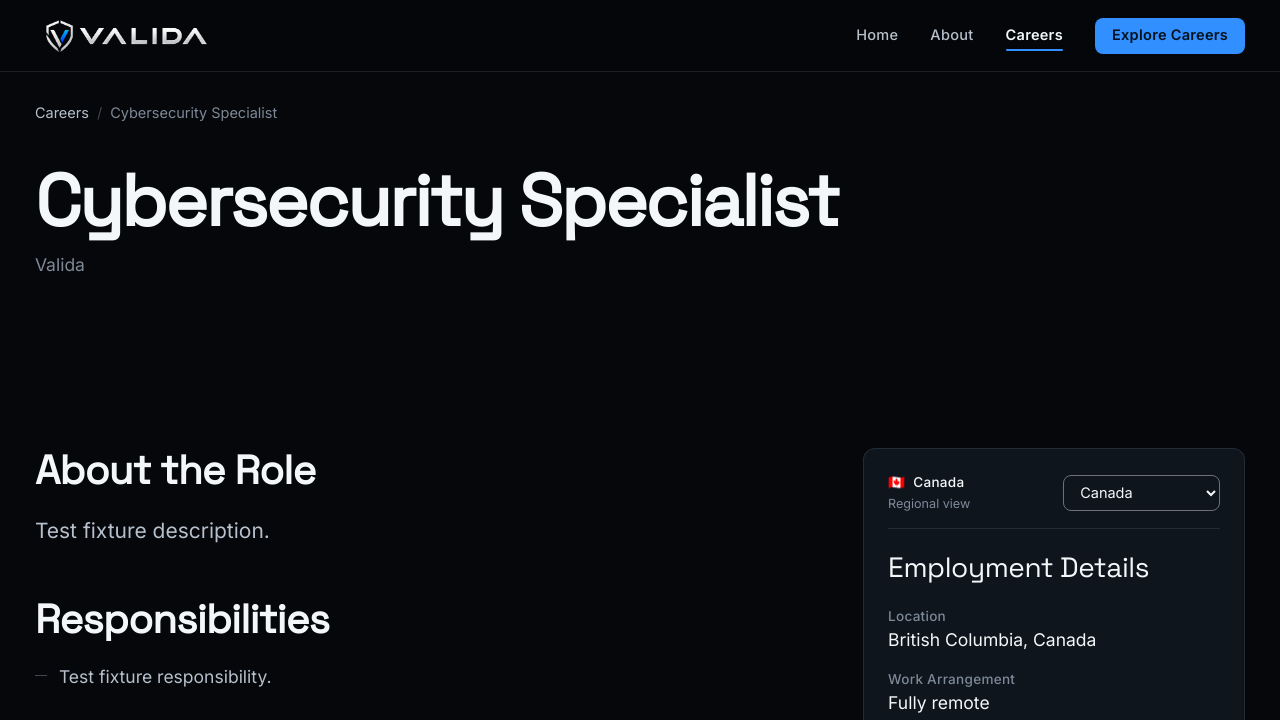
Scenario: region selector and navigation › updates the presentation immediately when the region changes
The width and height of the screenshot is (1280, 720).
Expected: the heading "Cybersecurity Specialist" is shown, [35,155,838,247]
Select "Germany" in the dropdown named "Change regional view": (1142, 493) [1063,475,1220,511]
(page scrolled)
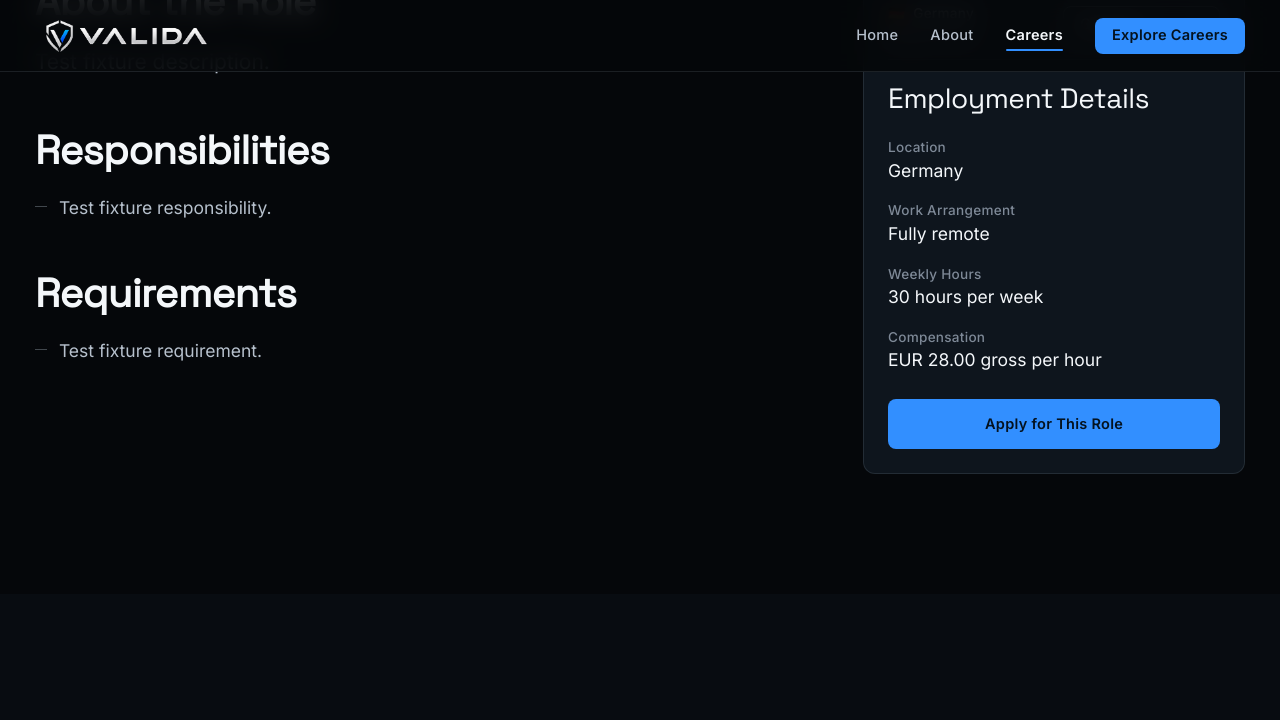
Expected: the text "EUR 28.00 gross per hour" is shown, [888,349,1102,370]
